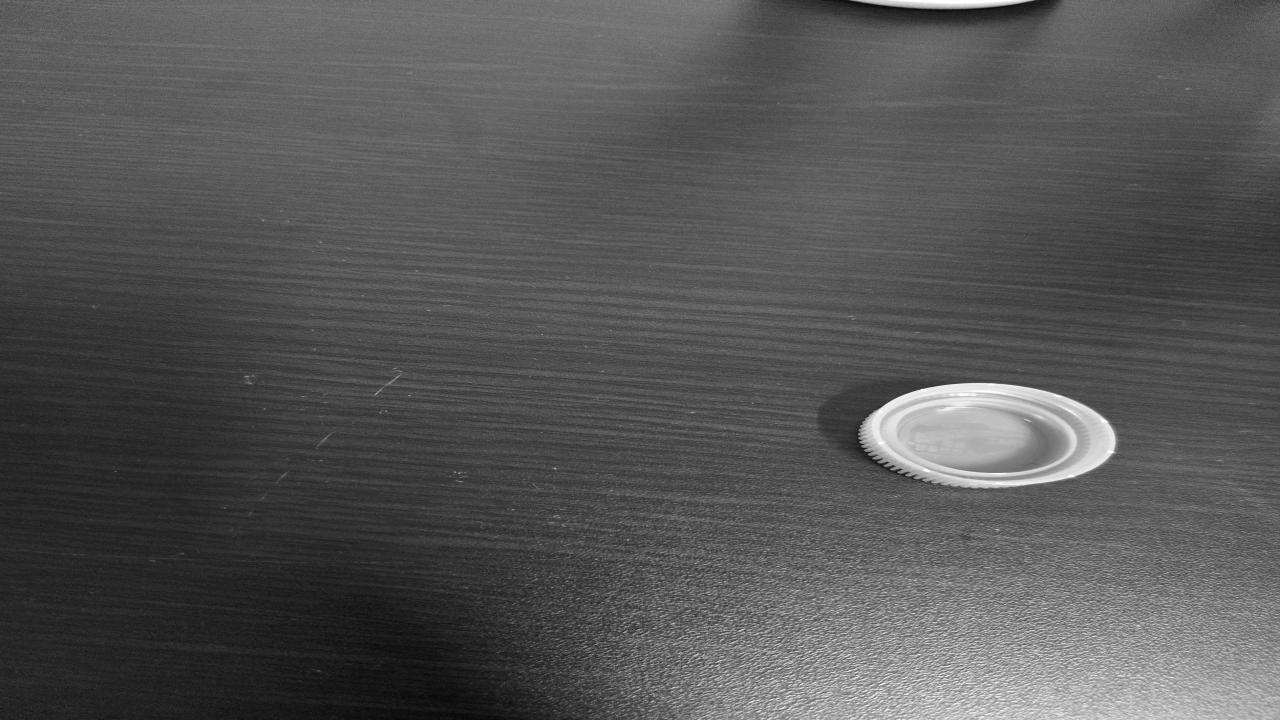bottle_cap: (864, 382, 1114, 487)
